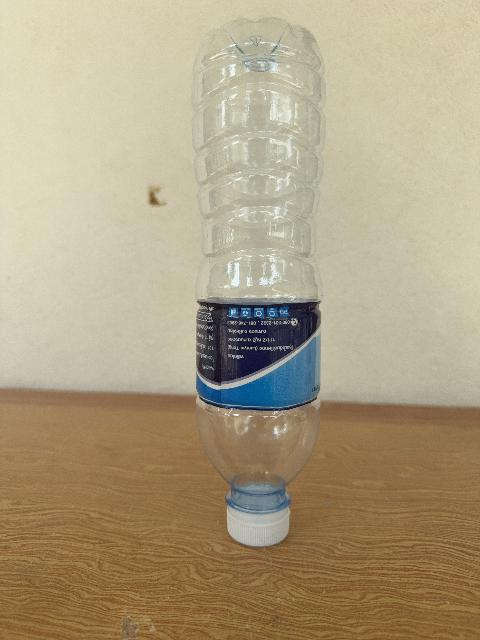bottle: (193, 18, 325, 546)
